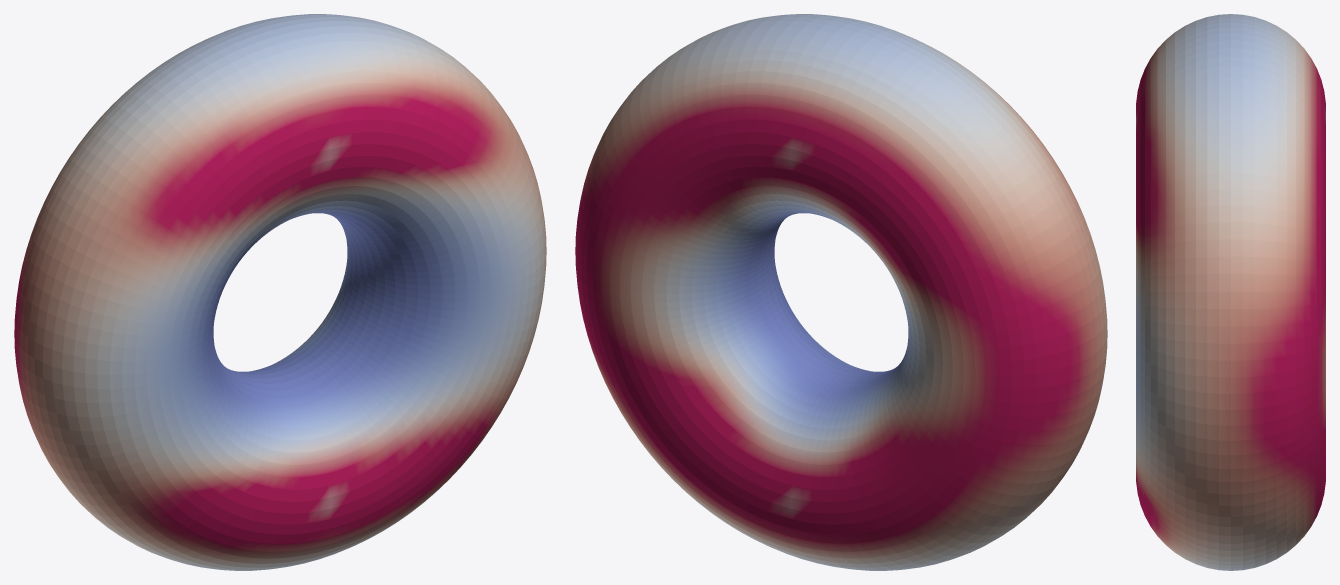
3 views of the same model, side by side, from view 1: azimuth 30°, elevation 25°; view 2: azimuth 150°, elevation 25°; view 3: azimuth 270°, elevation 25° (orthographic). The views are drawn at different scales.
Visible parts, largest first — view 1: world; view 2: world; view 3: world.
Part boxes in pixels (x1=…): world: x1=14, y1=14, x2=546, y2=570; world: x1=575, y1=14, x2=1107, y2=570; world: x1=1136, y1=14, x2=1325, y2=570.
Size of the model in its own units: 22.27 by 22.27 by 7.59.
